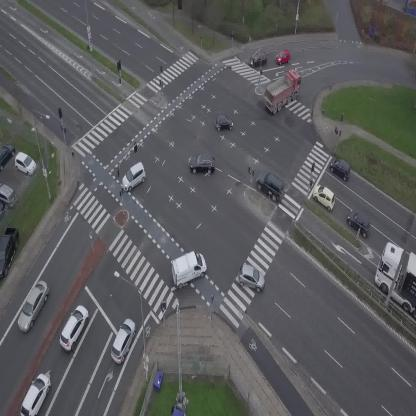car: (12, 278, 55, 334), (54, 302, 94, 353), (15, 371, 55, 416), (108, 316, 139, 365), (250, 167, 290, 204), (116, 160, 151, 193), (234, 262, 269, 293), (342, 208, 375, 238), (309, 182, 340, 211), (326, 153, 356, 181), (189, 153, 216, 175), (247, 50, 269, 67), (273, 48, 292, 65), (215, 114, 233, 131)
lorry: (375, 242, 416, 318), (256, 65, 311, 115), (164, 248, 212, 291)
